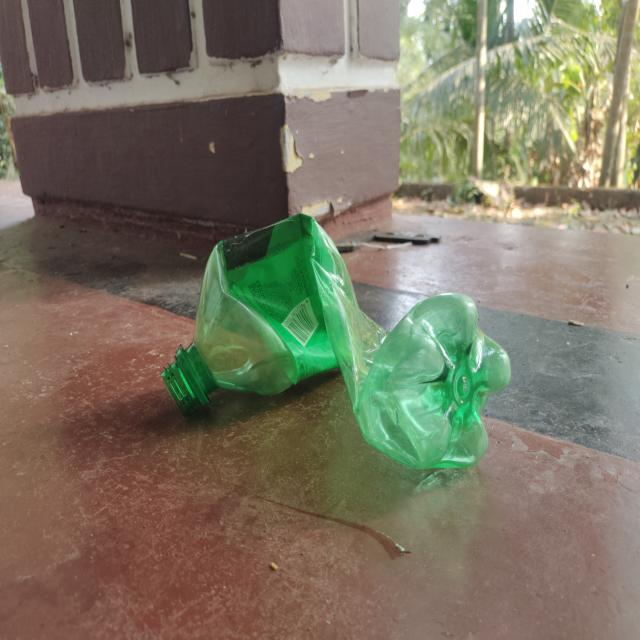plastic: (160, 204, 513, 481)
